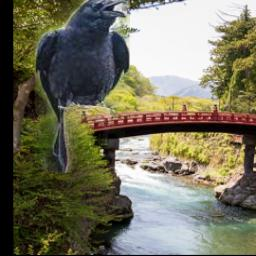Crow: (35, 0, 130, 174)
